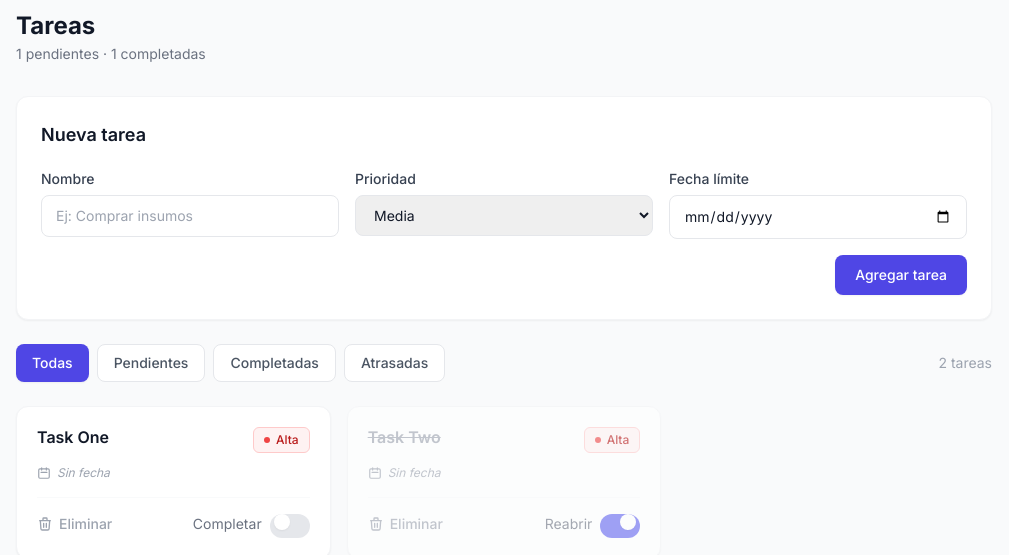
Test: TasksPage › filters tasks by pending
Check: the heading "Task One" is shown, box [37,427,109,447]
Click the button "Pendientes". click: (151, 363)
box: [97,344,206,382]
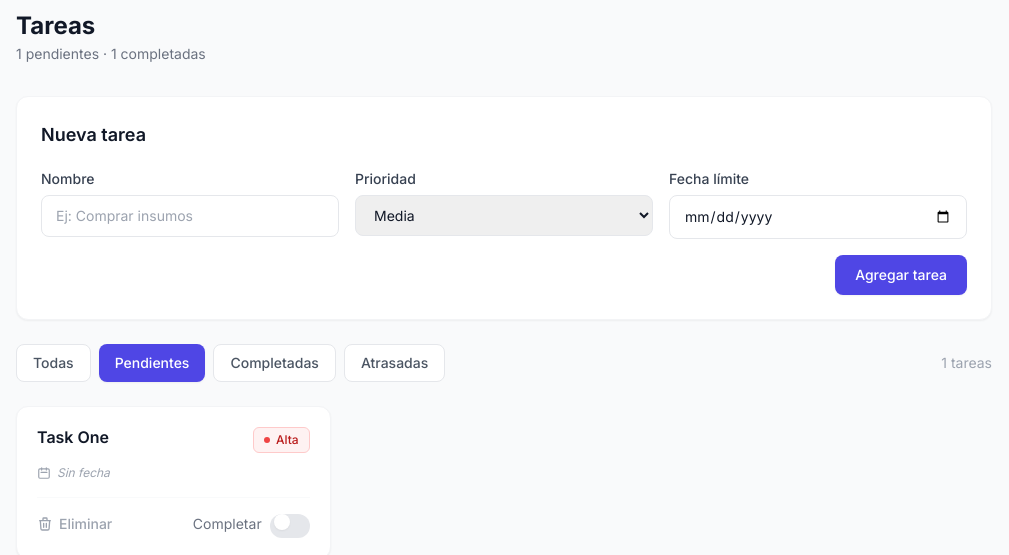
Check: the heading "Task One" is shown, box [37,427,109,447]
Check: the heading "Task Two" is gone
Check: the text "1 tareas" is shown, box [941,353,992,373]
